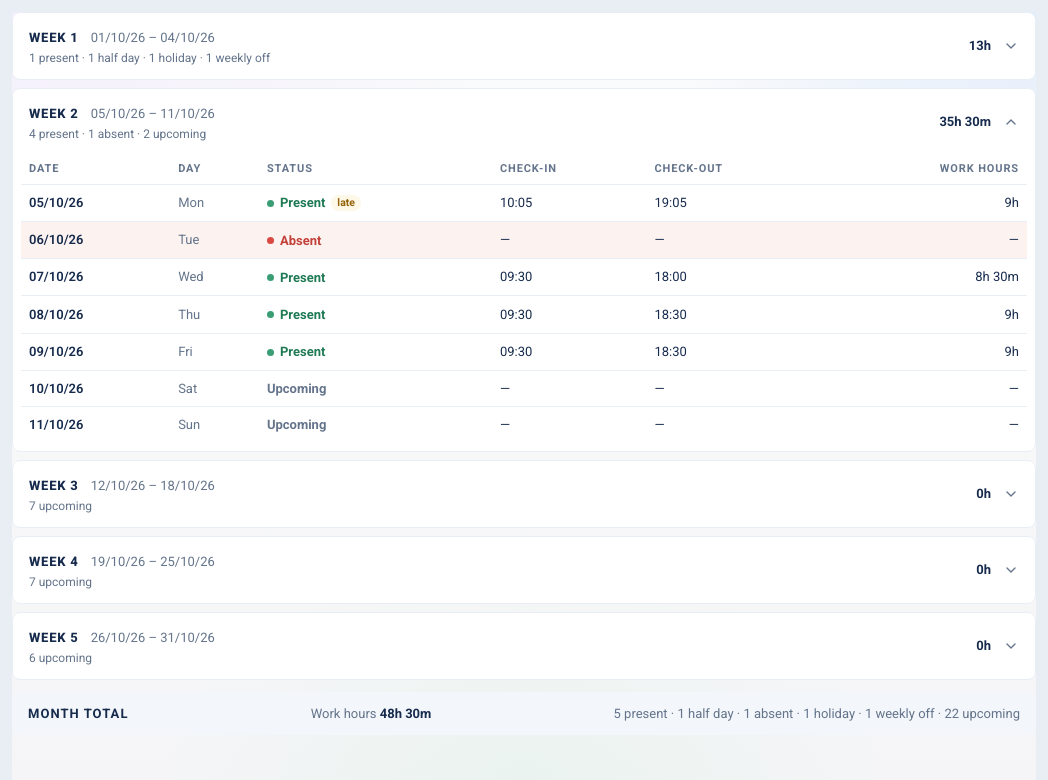
Test case: AttendanceWeeklyReport › with manage, a date opens a full-width row of that day's actions — still six columns
Click the button named "Manage 05/10/26" at (56, 203), box [29,193,84,212]
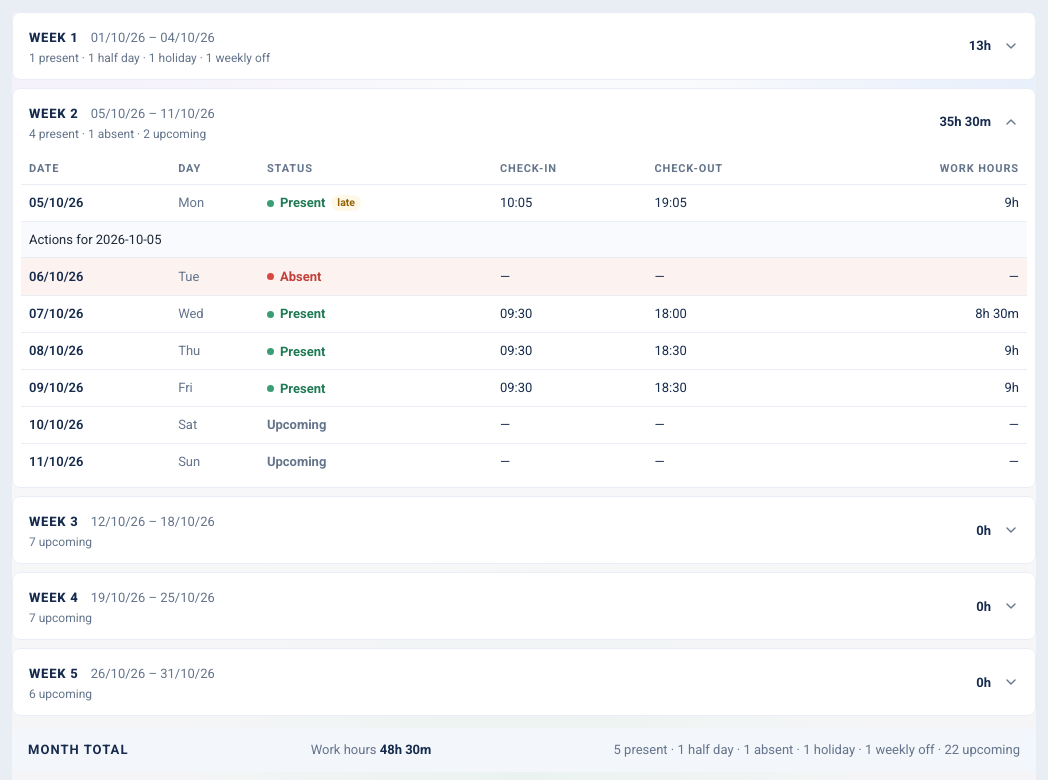
Click the button named "Manage 05/10/26" at (56, 203), box [29,193,84,212]
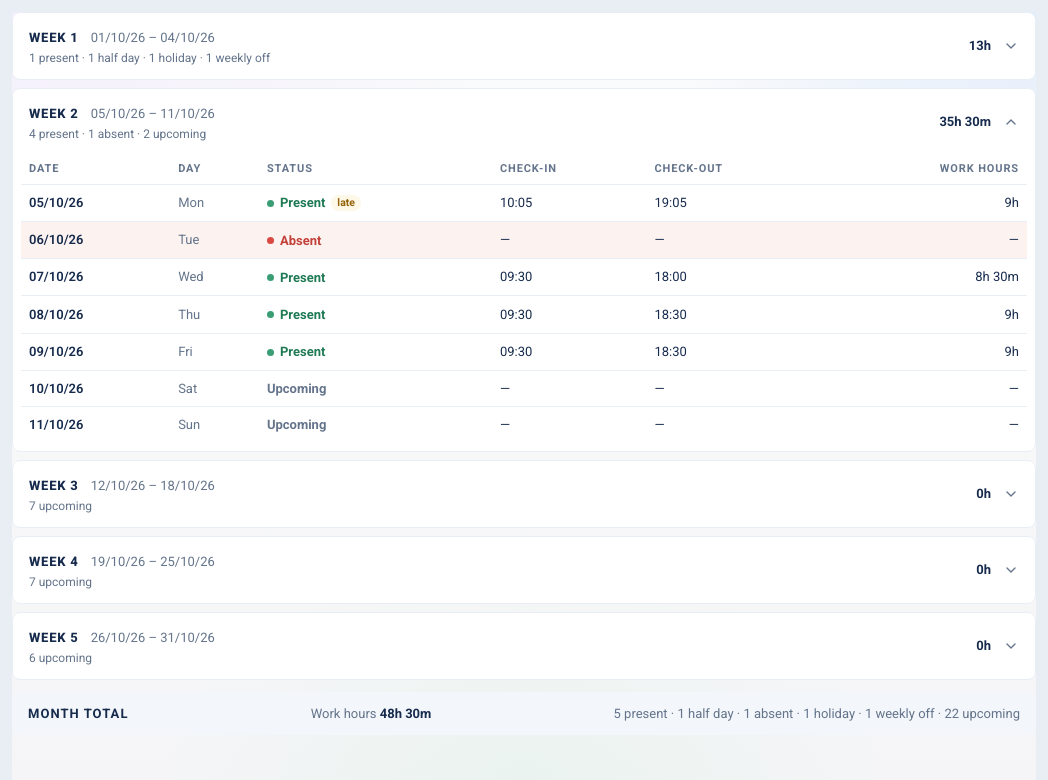
Expected: the text "Actions for 2026-10-05" is gone
